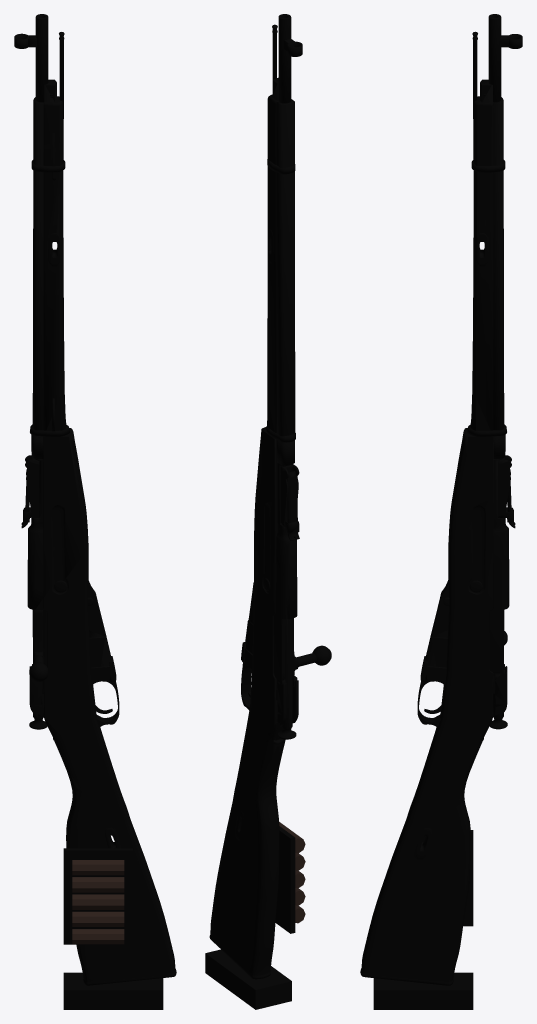
The model's file is MosinNagant__RecoilPad_Rubber__ShellHolder_Butt.fbx.
3 renders of one model, left to right at view 1: azimuth 90°, elevation 25°; view 2: azimuth 210°, elevation 25°; view 3: azimuth 270°, elevation 25°, orthographic.
Parts seen in each view (by area): view 1: asset_MosinNagant.001; view 2: asset_MosinNagant.001; view 3: asset_MosinNagant.001.
Part boxes in pixels (<box>): asset_MosinNagant.001: <box>14,14,176,1009</box>; asset_MosinNagant.001: <box>205,14,331,1009</box>; asset_MosinNagant.001: <box>360,14,522,1009</box>.
Bounding box in the file's own units: 0.049 × 0.753 × 0.1125.
